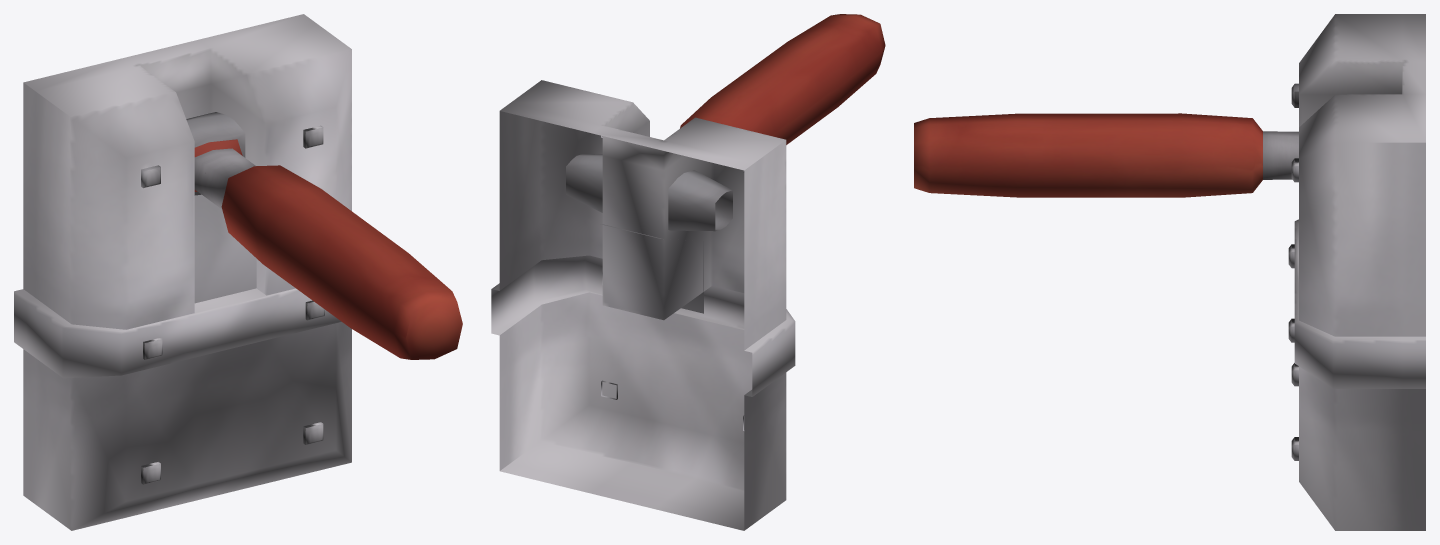
File: EscapeRoom 1.fbx
3 views of the same model, side by side, from view 1: azimuth 30°, elevation 25°; view 2: azimuth 150°, elevation 25°; view 3: azimuth 270°, elevation 25° (orthographic). The views are drawn at different scales.
Parts seen in each view (by area): view 1: Maçaneta, Maçaneta.001; view 2: Maçaneta, Maçaneta.001; view 3: Maçaneta, Maçaneta.001.
Boxes of the visible parts, left/top/right/bottom form: Maçaneta: left=14, top=14, right=351, bottom=530; Maçaneta.001: left=186, top=112, right=462, bottom=359; Maçaneta: left=491, top=80, right=795, bottom=530; Maçaneta.001: left=566, top=14, right=885, bottom=231; Maçaneta: left=1288, top=14, right=1425, bottom=530; Maçaneta.001: left=914, top=113, right=1298, bottom=197.
Bounding box in the file's own units: 26.57 × 35.07 × 41.9.
